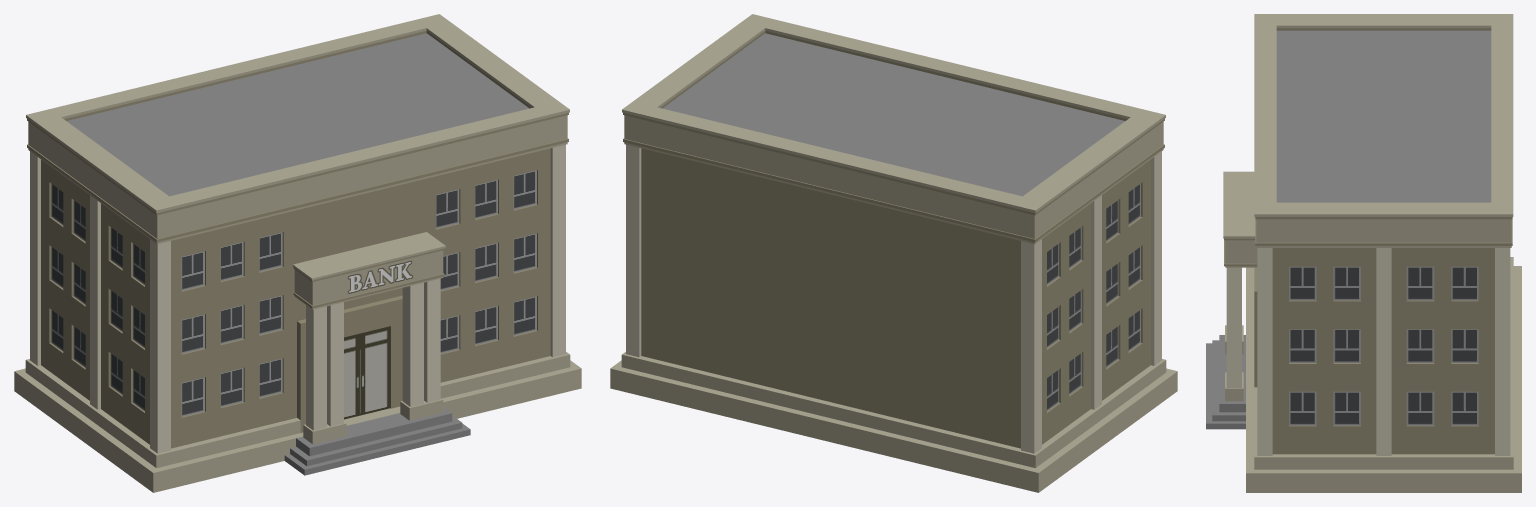
The model's file is spb-bank.glb.
3 views of the same model, side by side, from view 1: azimuth 30°, elevation 25°; view 2: azimuth 150°, elevation 25°; view 3: azimuth 270°, elevation 25° (orthographic).
Parts seen in each view (by area): view 1: SPB_Bank; view 2: SPB_Bank; view 3: SPB_Bank.
Part boxes in pixels (left/top/right/bottom): SPB_Bank: left=14, top=14, right=581, bottom=492; SPB_Bank: left=610, top=14, right=1177, bottom=492; SPB_Bank: left=1206, top=14, right=1521, bottom=492.
Size of the model in its own units: 19.78 by 12.24 by 12.73.
Materials: 1 (1 with a texture image).
